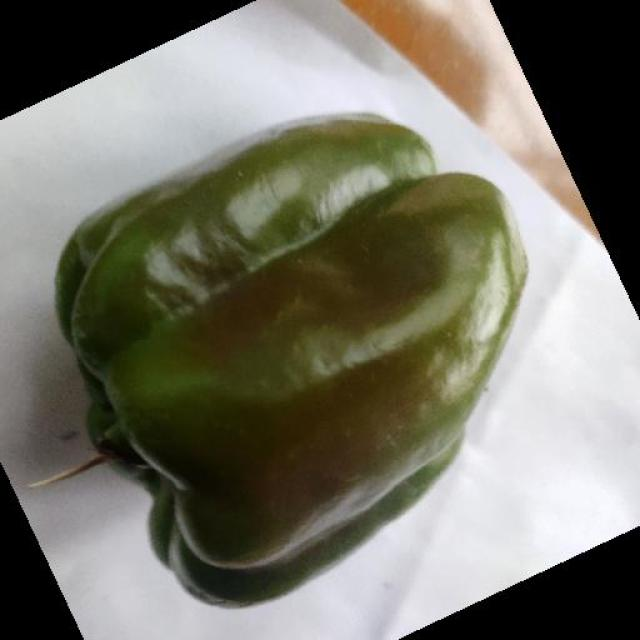Stale_Capsicum: (96, 125, 535, 563)
